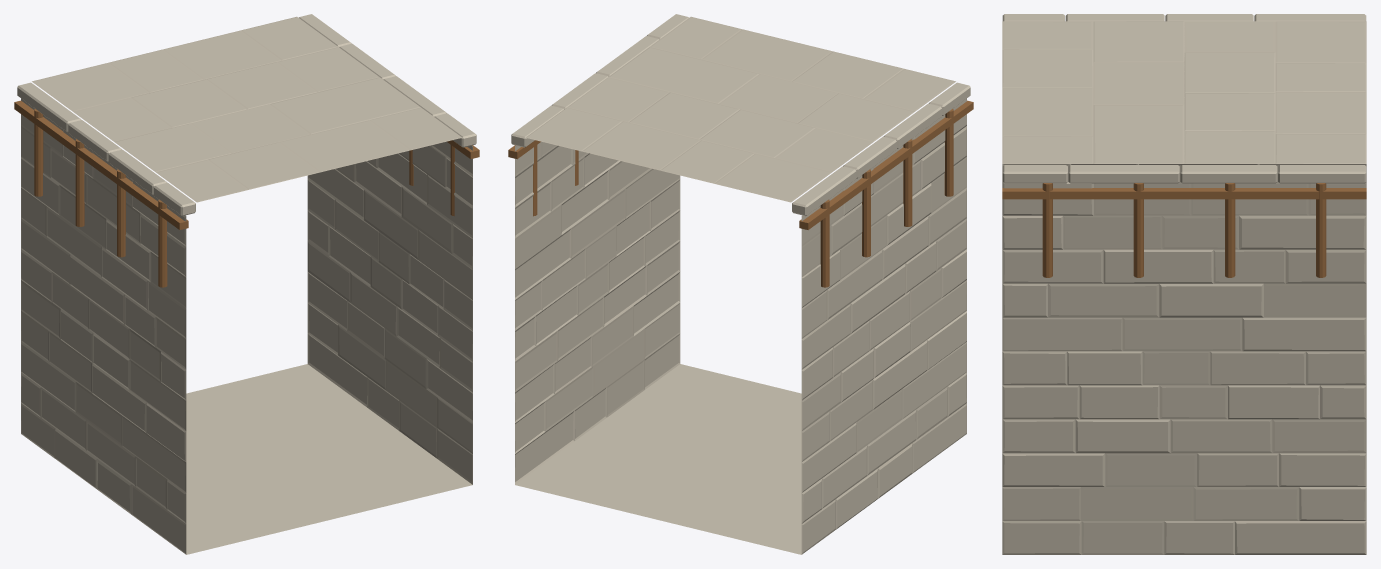
Rendered from quay_segment.glb.
The picture shows the model from 3 angles, left to right: view 1: azimuth 30°, elevation 25°; view 2: azimuth 150°, elevation 25°; view 3: azimuth 270°, elevation 25°; orthographic projection. The views are drawn at different scales.
Visible parts, largest first — view 1: quay_segment; view 2: quay_segment; view 3: quay_segment.
Part boxes in pixels (x1,y1,x2,y2): quay_segment: (14,14,479,554); quay_segment: (508,14,973,554); quay_segment: (1002,14,1366,554).
Bounding box in the file's own units: 6.28 × 7 × 6.
